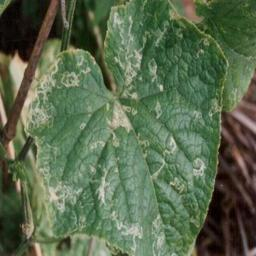liriomyza: (33, 136, 84, 214), (20, 48, 59, 136), (109, 8, 145, 98), (104, 97, 137, 148), (110, 210, 144, 255), (58, 53, 95, 89), (149, 133, 177, 180), (87, 163, 109, 207), (147, 56, 165, 92), (191, 156, 208, 177), (154, 100, 163, 119)
